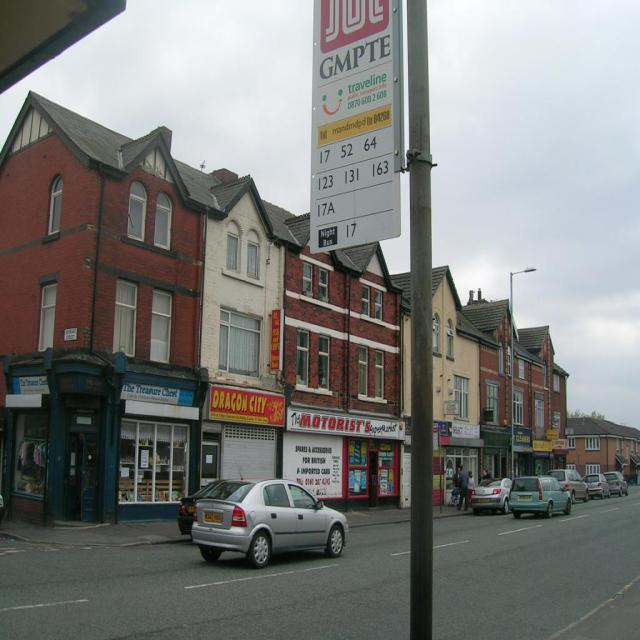car: (184, 474, 348, 567), (512, 473, 571, 515)
